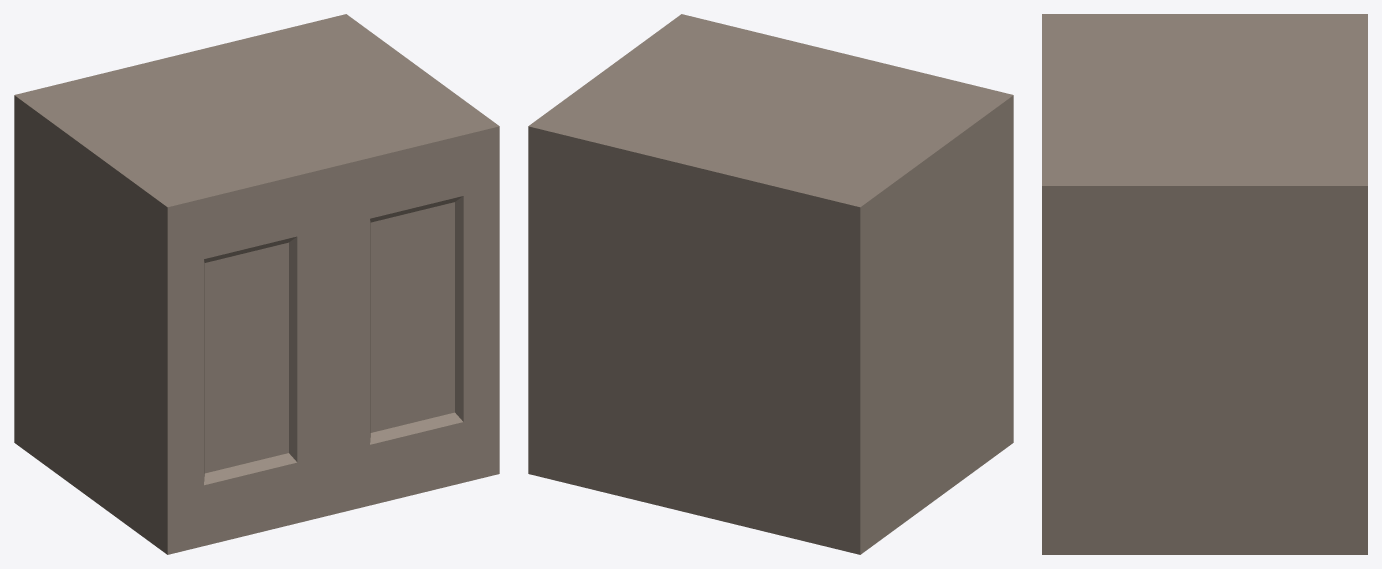
The model's file is 12-15-High-12-Deep_std_001_W15in_1D.glb.
3 views of the same model, side by side, from view 1: azimuth 30°, elevation 25°; view 2: azimuth 150°, elevation 25°; view 3: azimuth 270°, elevation 25° (orthographic). The views are drawn at different scales.
Visible parts, largest first — view 1: 12-15-High-12-Deep.std.001_W15in_1D; view 2: 12-15-High-12-Deep.std.001_W15in_1D; view 3: 12-15-High-12-Deep.std.001_W15in_1D.
Part boxes in pixels (bbox=[...]): 12-15-High-12-Deep.std.001_W15in_1D: bbox=[14, 14, 499, 554]; 12-15-High-12-Deep.std.001_W15in_1D: bbox=[528, 14, 1013, 554]; 12-15-High-12-Deep.std.001_W15in_1D: bbox=[1042, 14, 1367, 554].
Size of the model in its own units: 0.381 by 0.381 by 0.3048.
